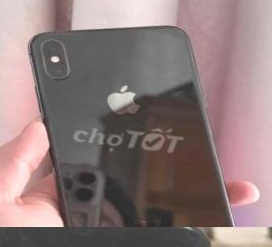scratch: (0, 227, 112, 247), (160, 227, 222, 247)
